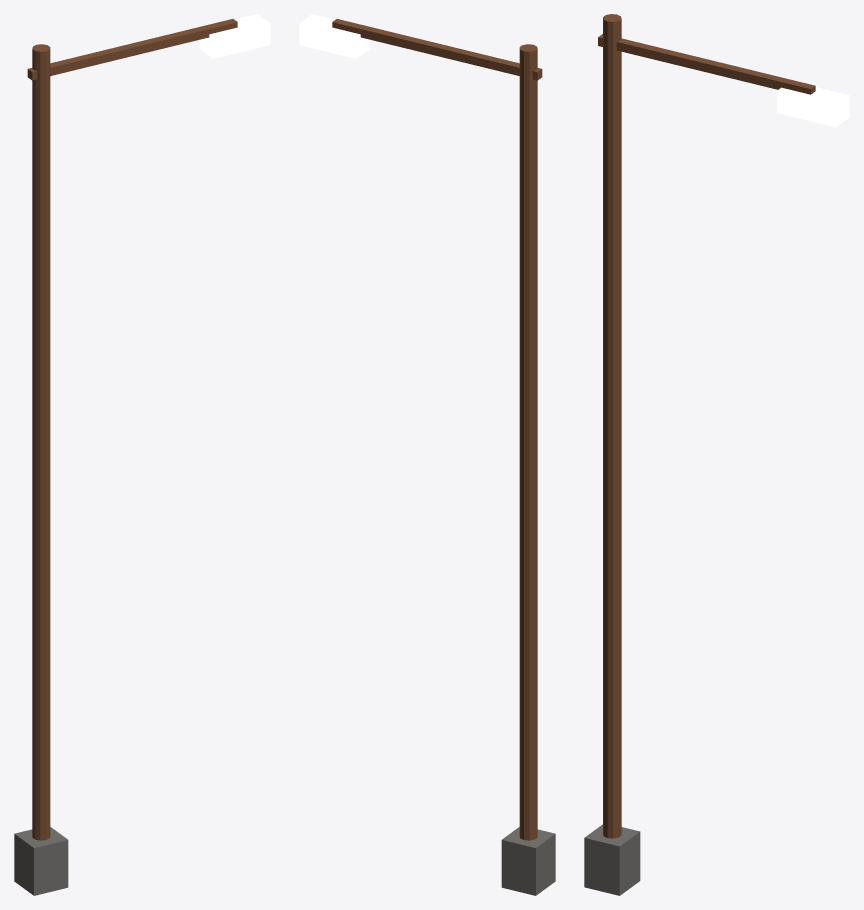
Rendered from PROP_Streetlamp_Slum_MD.glb.
3 views of the same model, side by side, from view 1: azimuth 30°, elevation 25°; view 2: azimuth 150°, elevation 25°; view 3: azimuth 330°, elevation 25° (orthographic). The views are drawn at different scales.
Visible parts, largest first — view 1: PROP_Streetlamp_Slum_MD; view 2: PROP_Streetlamp_Slum_MD; view 3: PROP_Streetlamp_Slum_MD.
Part boxes in pixels (x1,y1,x2,y2): PROP_Streetlamp_Slum_MD: [14, 14, 270, 895]; PROP_Streetlamp_Slum_MD: [299, 14, 555, 895]; PROP_Streetlamp_Slum_MD: [584, 14, 849, 895].
Bounding box in the file's own units: 2.1 × 7 × 0.3.
